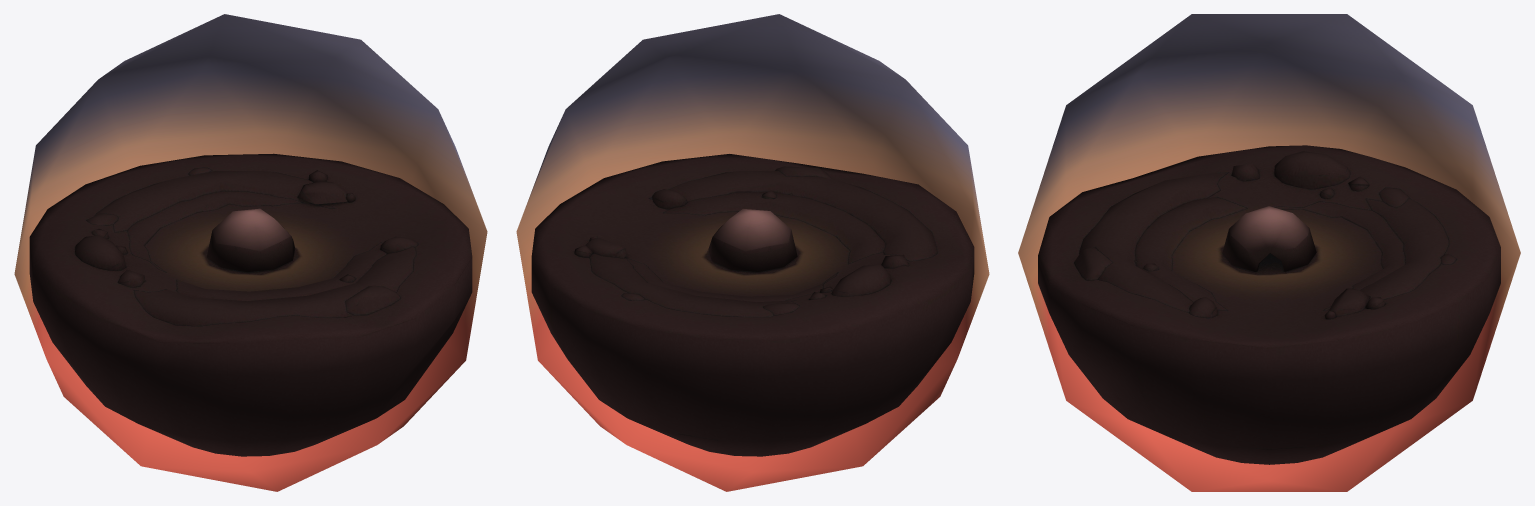
3 renders of one model, left to right at view 1: azimuth 30°, elevation 25°; view 2: azimuth 150°, elevation 25°; view 3: azimuth 270°, elevation 25°, orthographic. The views are drawn at different scales.
Parts seen in each view (by area): view 1: ground, envirosphere.001, lodge.001; view 2: ground, envirosphere.001, lodge.001; view 3: ground, envirosphere.001, lodge.001.
Boxes of the visible parts, box(x1,y1,x2,y2) form: ground: box(29, 153, 472, 456); envirosphere.001: box(14, 14, 487, 491); lodge.001: box(207, 208, 295, 271); ground: box(531, 154, 974, 456); envirosphere.001: box(516, 14, 989, 491); lodge.001: box(708, 209, 797, 271); ground: box(1038, 145, 1500, 464); envirosphere.001: box(1018, 14, 1520, 491); lodge.001: box(1222, 206, 1316, 271).
Size of the model in its own units: 13.02 by 13.69 by 13.69.
Materials: 3 (3 with a texture image).
